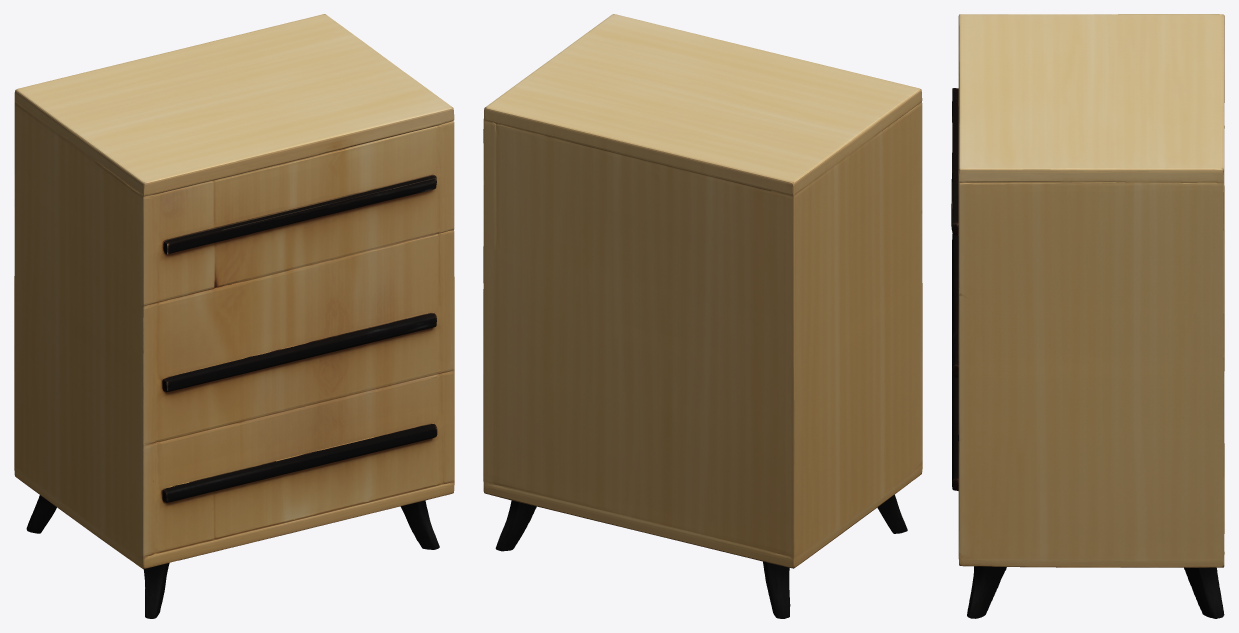
File: 24197_texas_chest_of_drawer_only_baf.glb
3 renders of one model, left to right at view 1: azimuth 30°, elevation 25°; view 2: azimuth 150°, elevation 25°; view 3: azimuth 270°, elevation 25°, orthographic. The views are drawn at different scales.
Parts seen in each view (by area): view 1: world; view 2: world; view 3: world.
Part boxes in pixels (left/top/right/bottom): world: left=14, top=14, right=454, bottom=618; world: left=483, top=14, right=922, bottom=618; world: left=951, top=14, right=1224, bottom=618.
Bounding box in the file's own units: 0.7401 × 1 × 0.546.
1 material, 1 textured.
